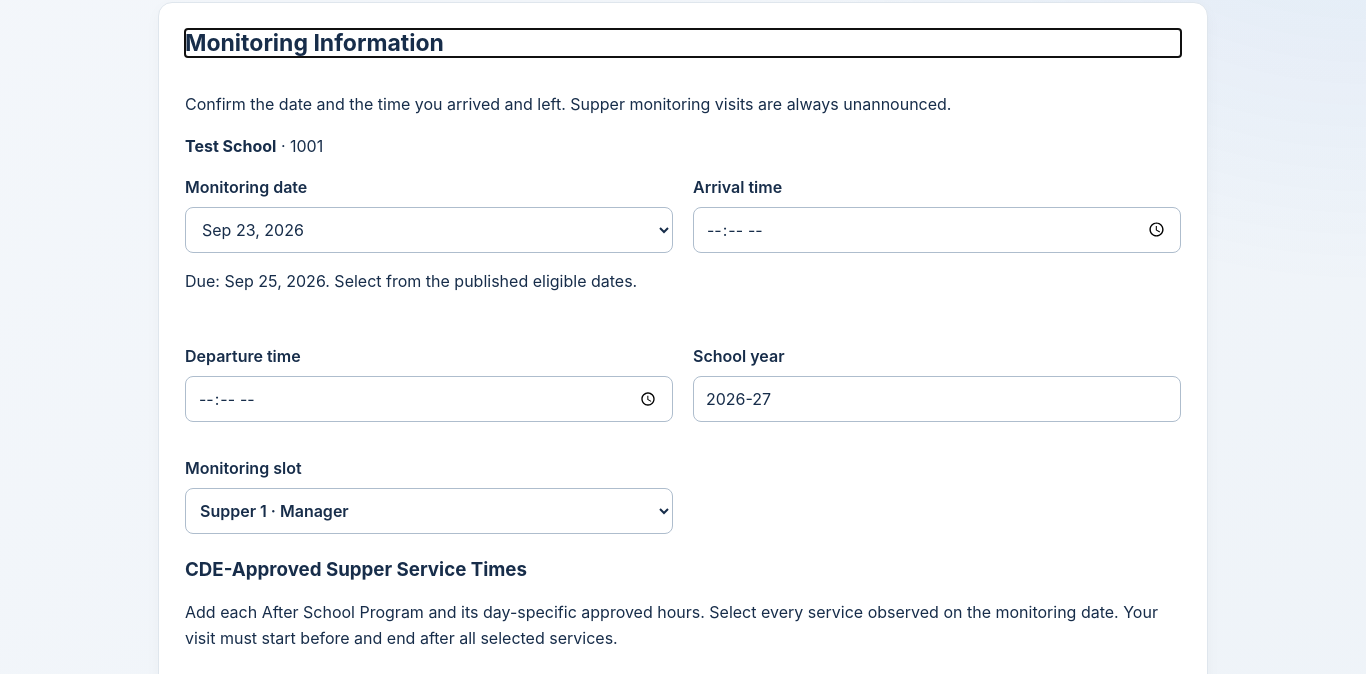
Test case: Manager restart requires confirmation and Cancel preserves the saved draft
Earlier steps of the test are not shown.
(page scrolled)
Select "Sep 23, 2026" in the dropdown with id "monitoringDate" at (429, 230), box [185,207,673,253]
(page scrolled)
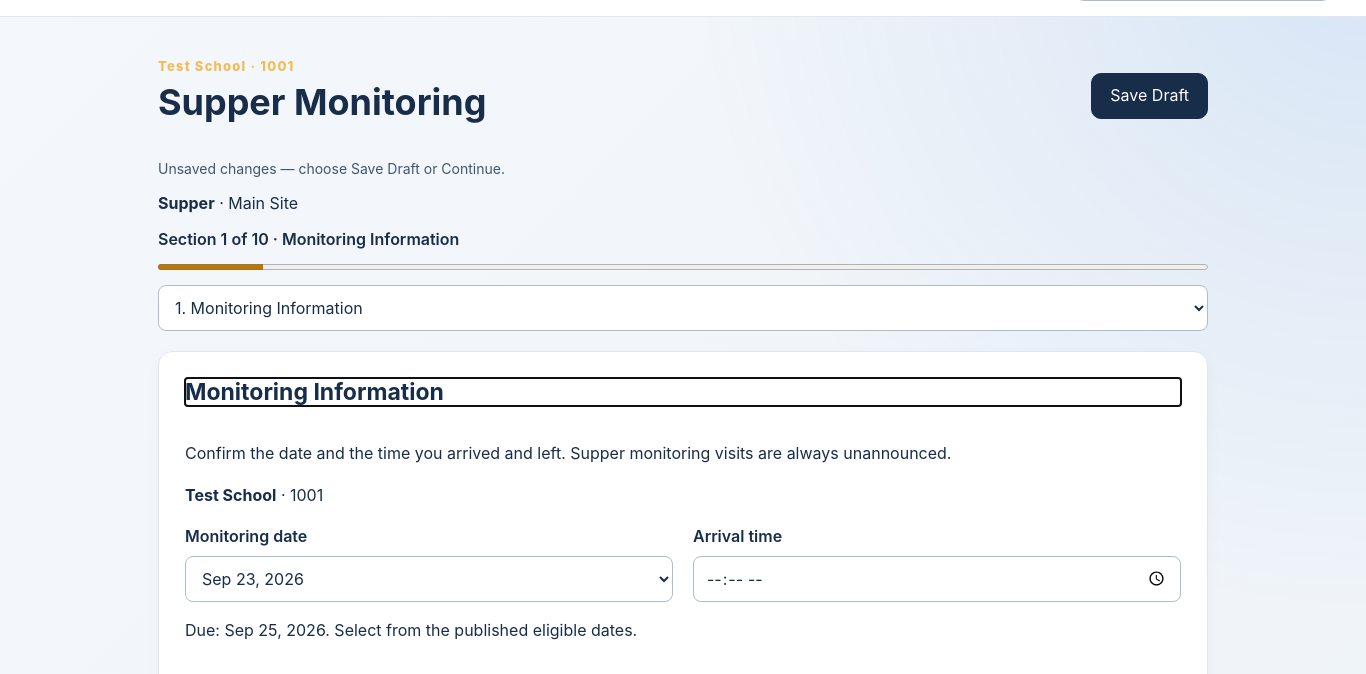
Now the button "Save Draft" is shown
Click the button "Save Draft" at (1150, 96), box [1091,72,1208,118]
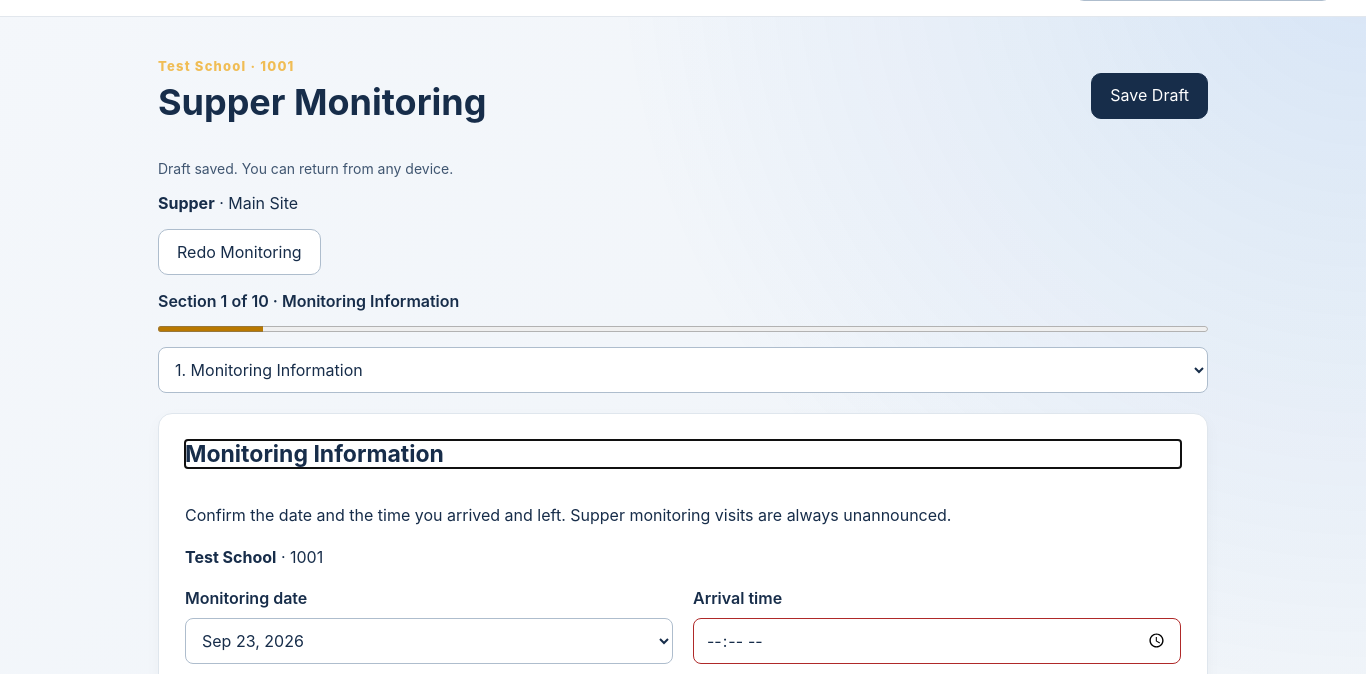
Now the button "Redo Monitoring" is shown
Click the button "Redo Monitoring" at (239, 252), box [158,229,321,275]
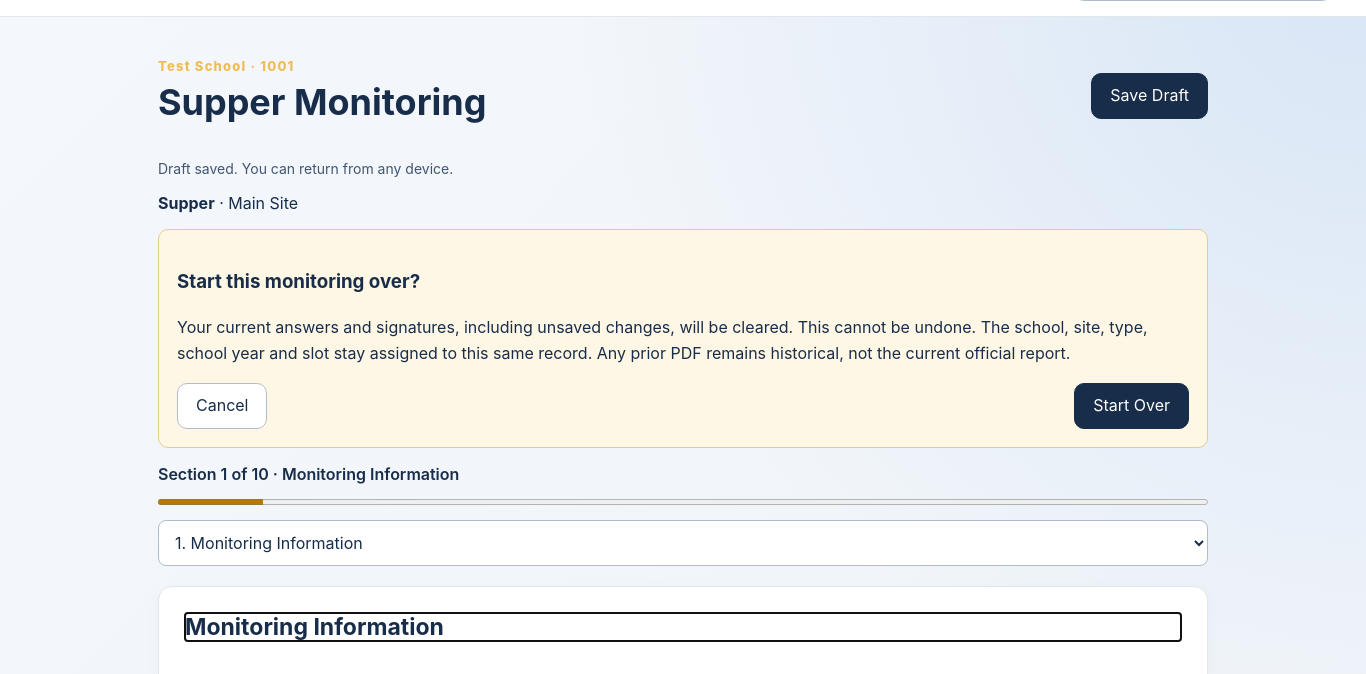
Now the button "Cancel" is shown
Now the dialog is shown, box [158,229,1208,448]
Click the button "Cancel" at (222, 406), box [177,383,268,429]
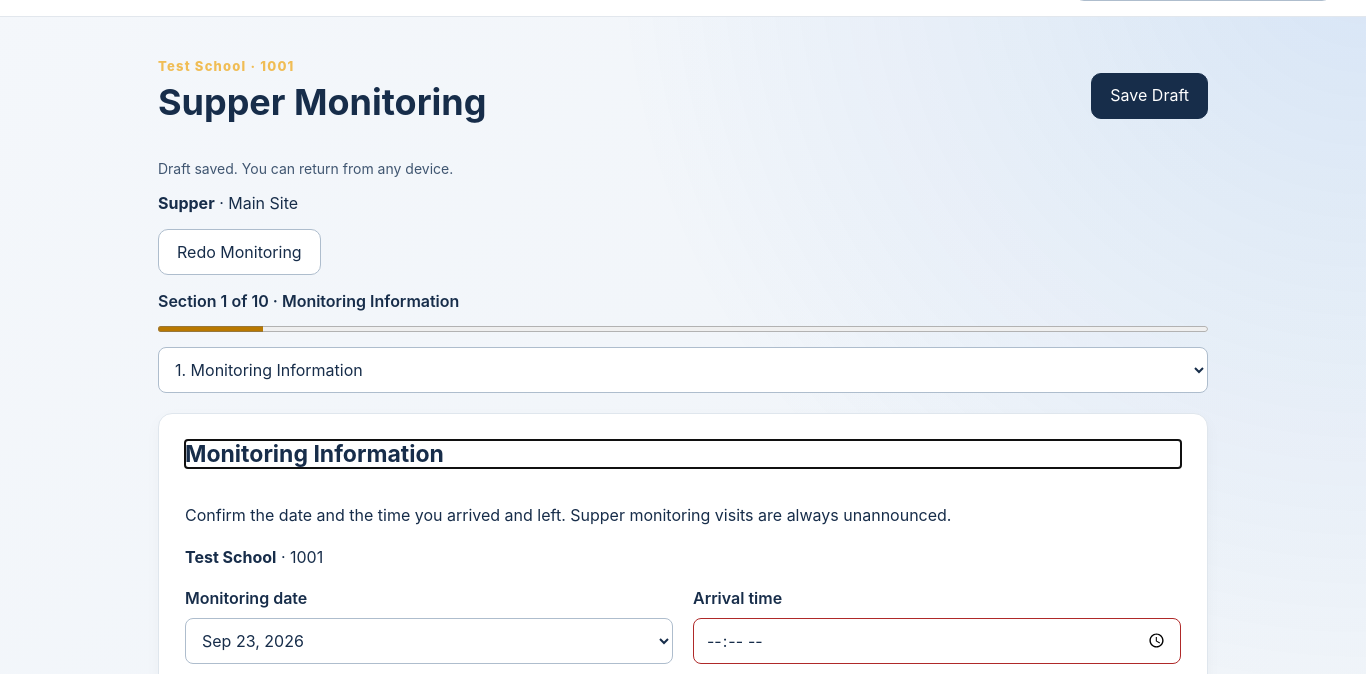
Now the button "Redo Monitoring" is shown
Click the button "Redo Monitoring" at (239, 252), box [158,229,321,275]
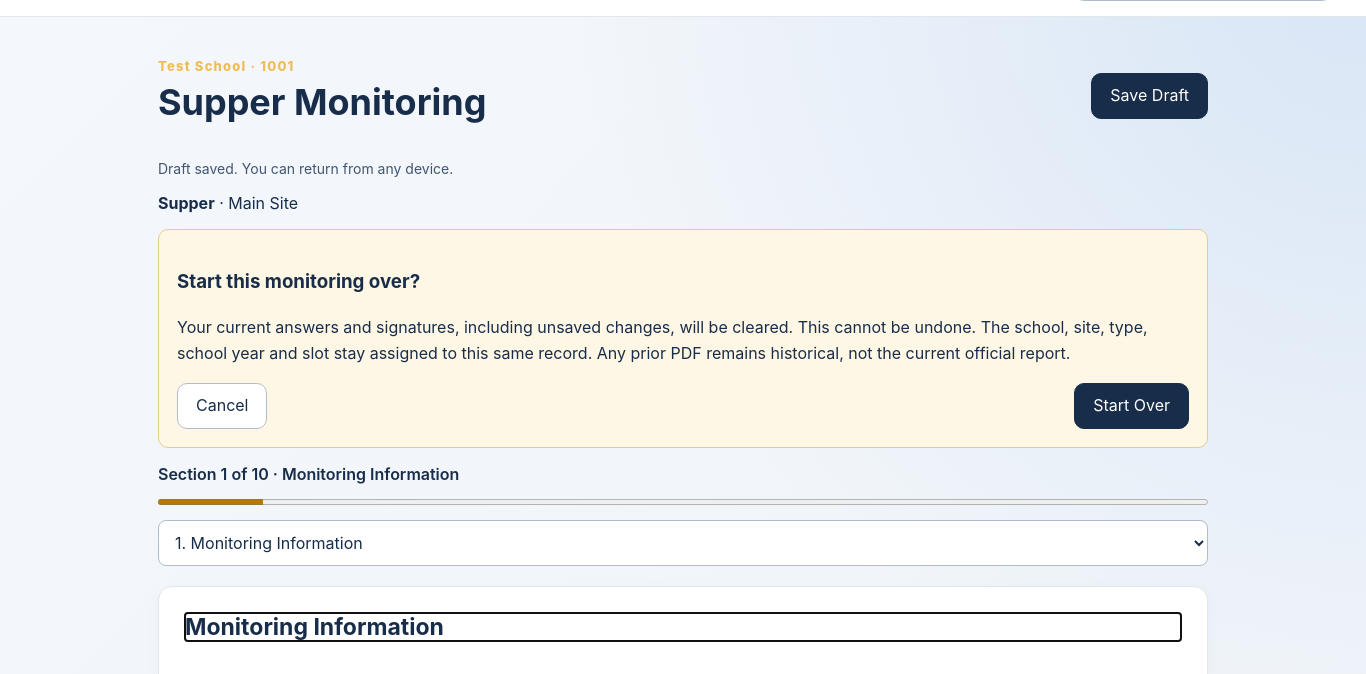
Now the button "Start Over" is shown
Click the button "Start Over" at (1132, 406), box [1074,383,1189,429]
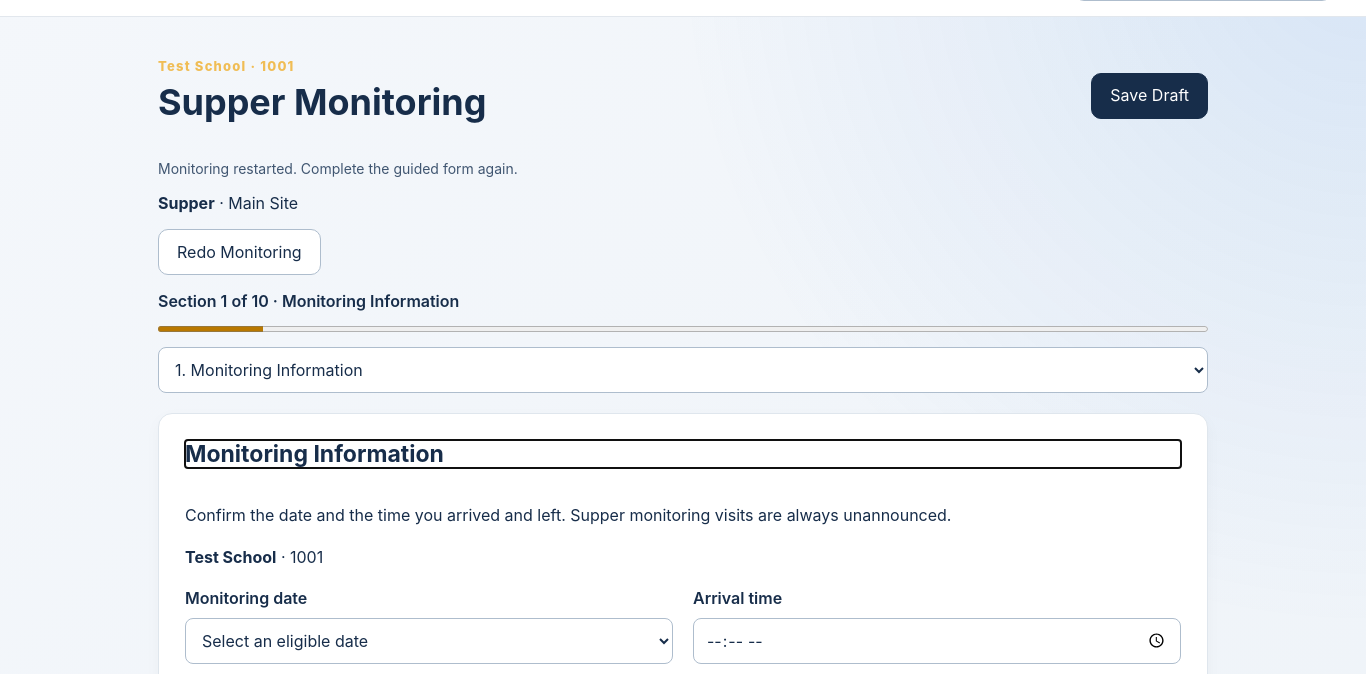
Now the text "Monitoring restarted" is shown, box [158,160,518,177]
